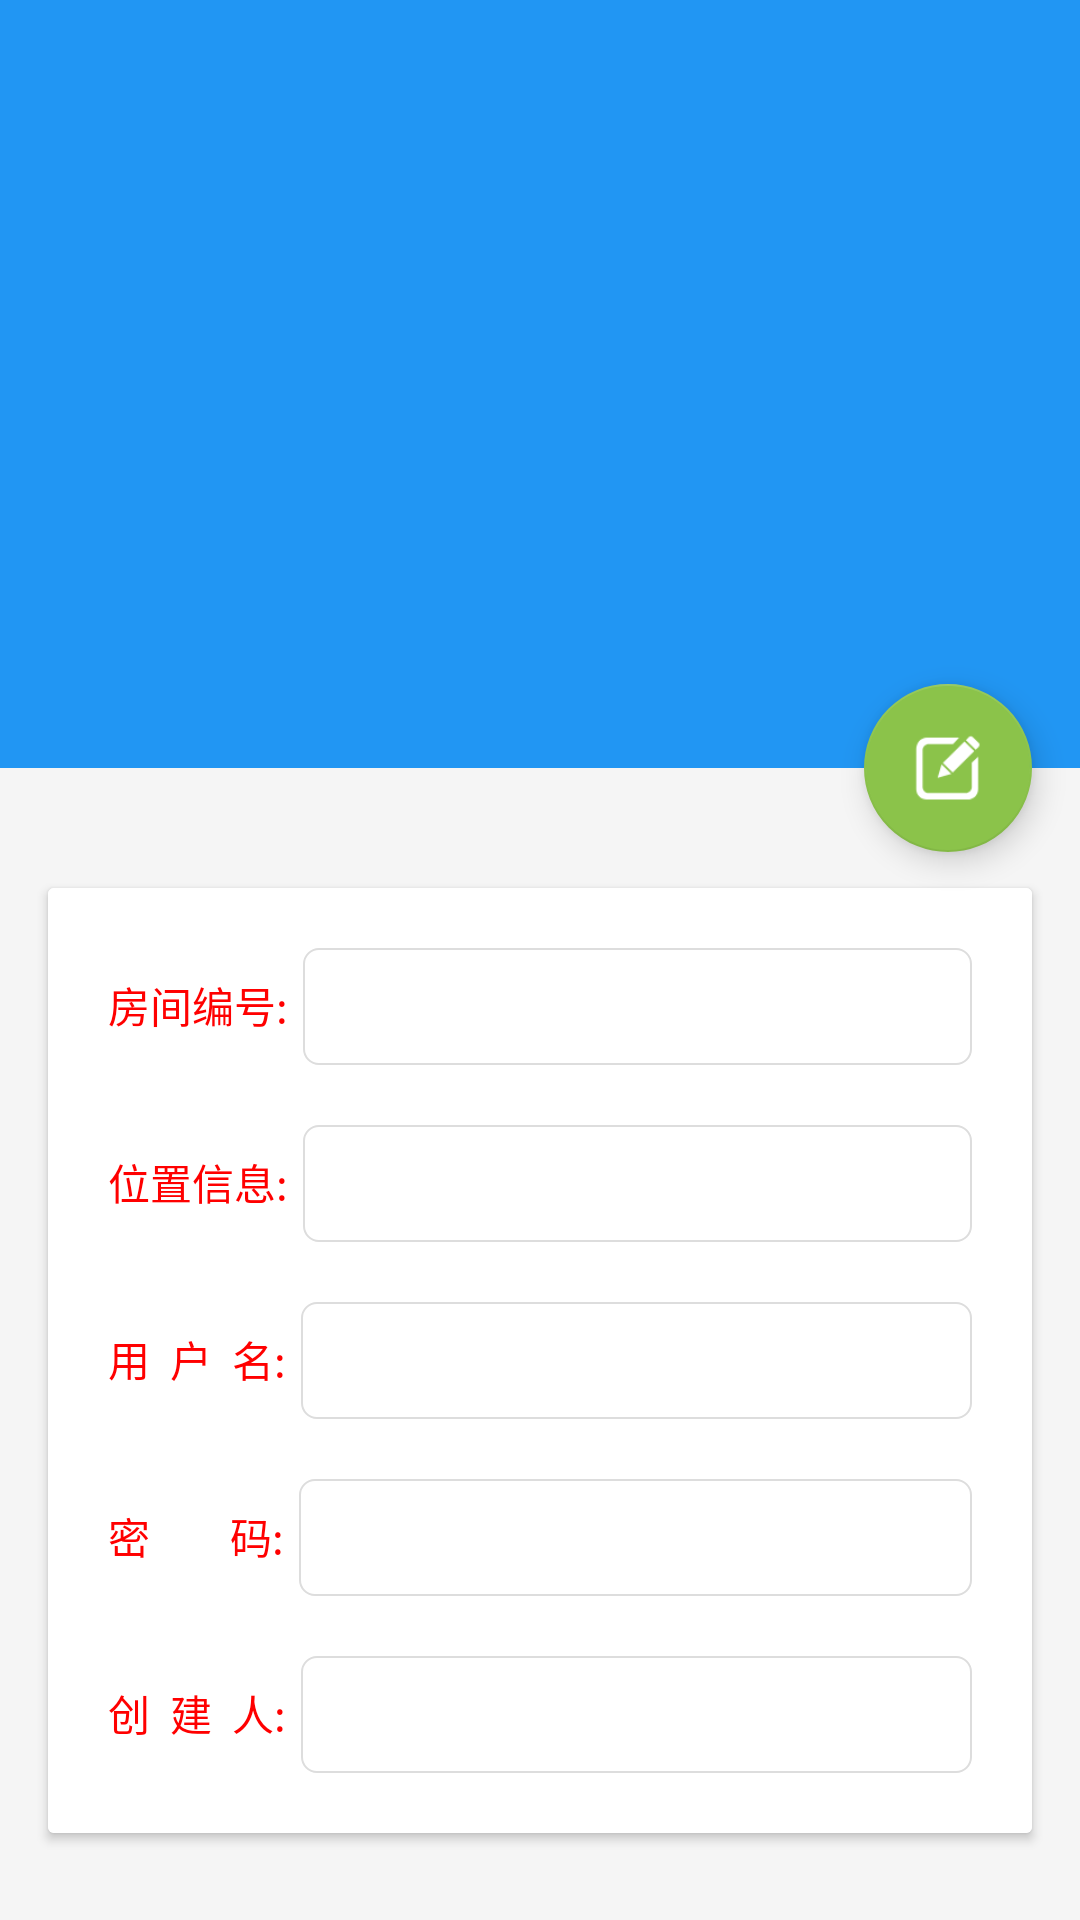

Where to tap for icons on this 1080*1920 app screen, as (x,y):
edit: (948,768)
